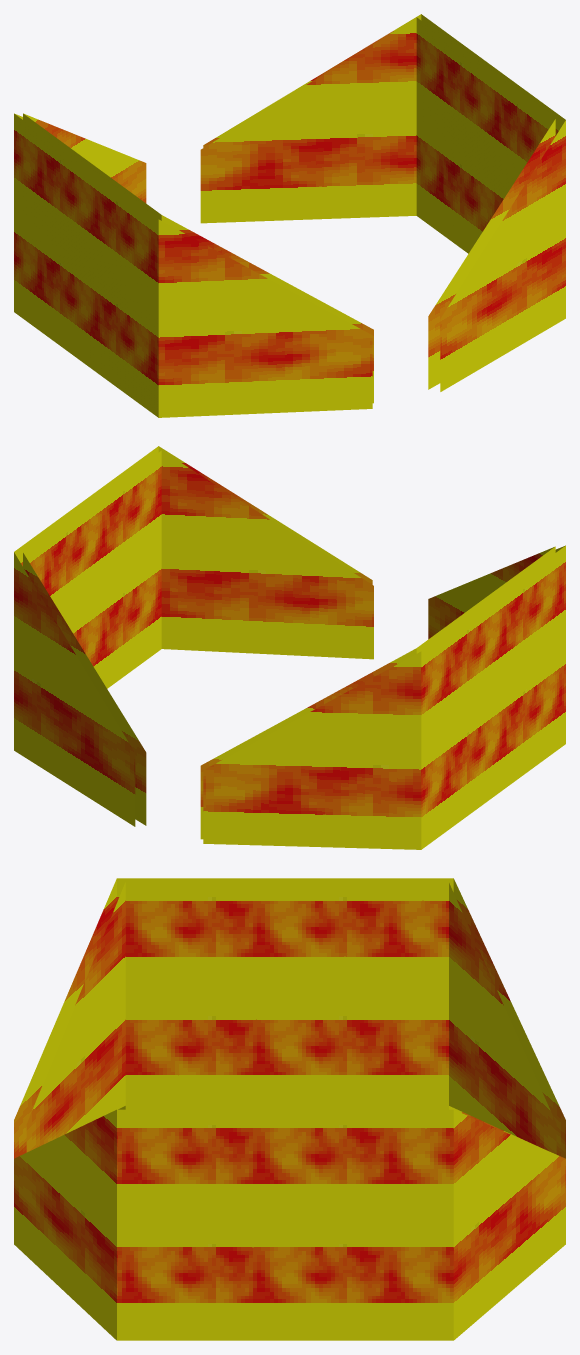
Rendered from PowerShieldLegs.glb.
3 views of the same model, one above another, from view 1: azimuth 30°, elevation 25°; view 2: azimuth 150°, elevation 25°; view 3: azimuth 270°, elevation 25° (orthographic). The views are drawn at different scales.
Parts seen in each view (by area): view 1: PowerShieldLegs; view 2: PowerShieldLegs; view 3: PowerShieldLegs.
Part boxes in pixels (x1,y1,x2,y2): PowerShieldLegs: (14,14,565,417); PowerShieldLegs: (14,446,565,849); PowerShieldLegs: (14,878,565,1340).
Bounding box in the file's own units: 20.86 × 9.72 × 21.03.
Materials: 1 (1 with a texture image).
